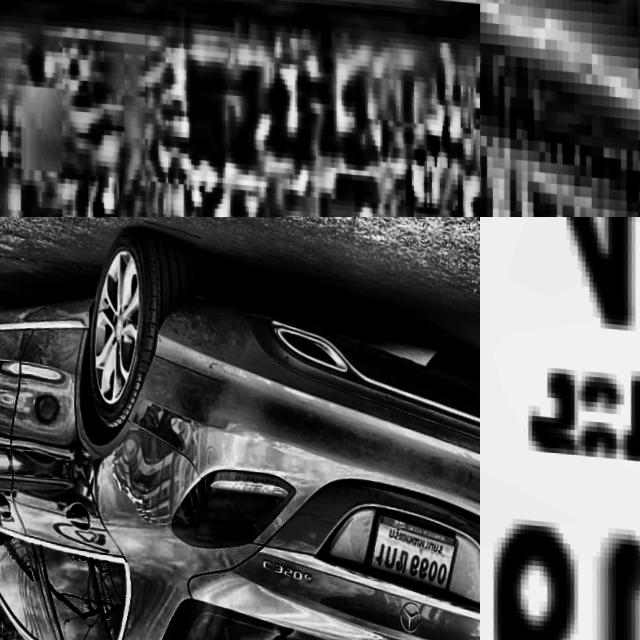license-plate: (0, 0, 480, 217), (480, 217, 640, 640), (480, 0, 640, 217), (352, 504, 459, 597)
